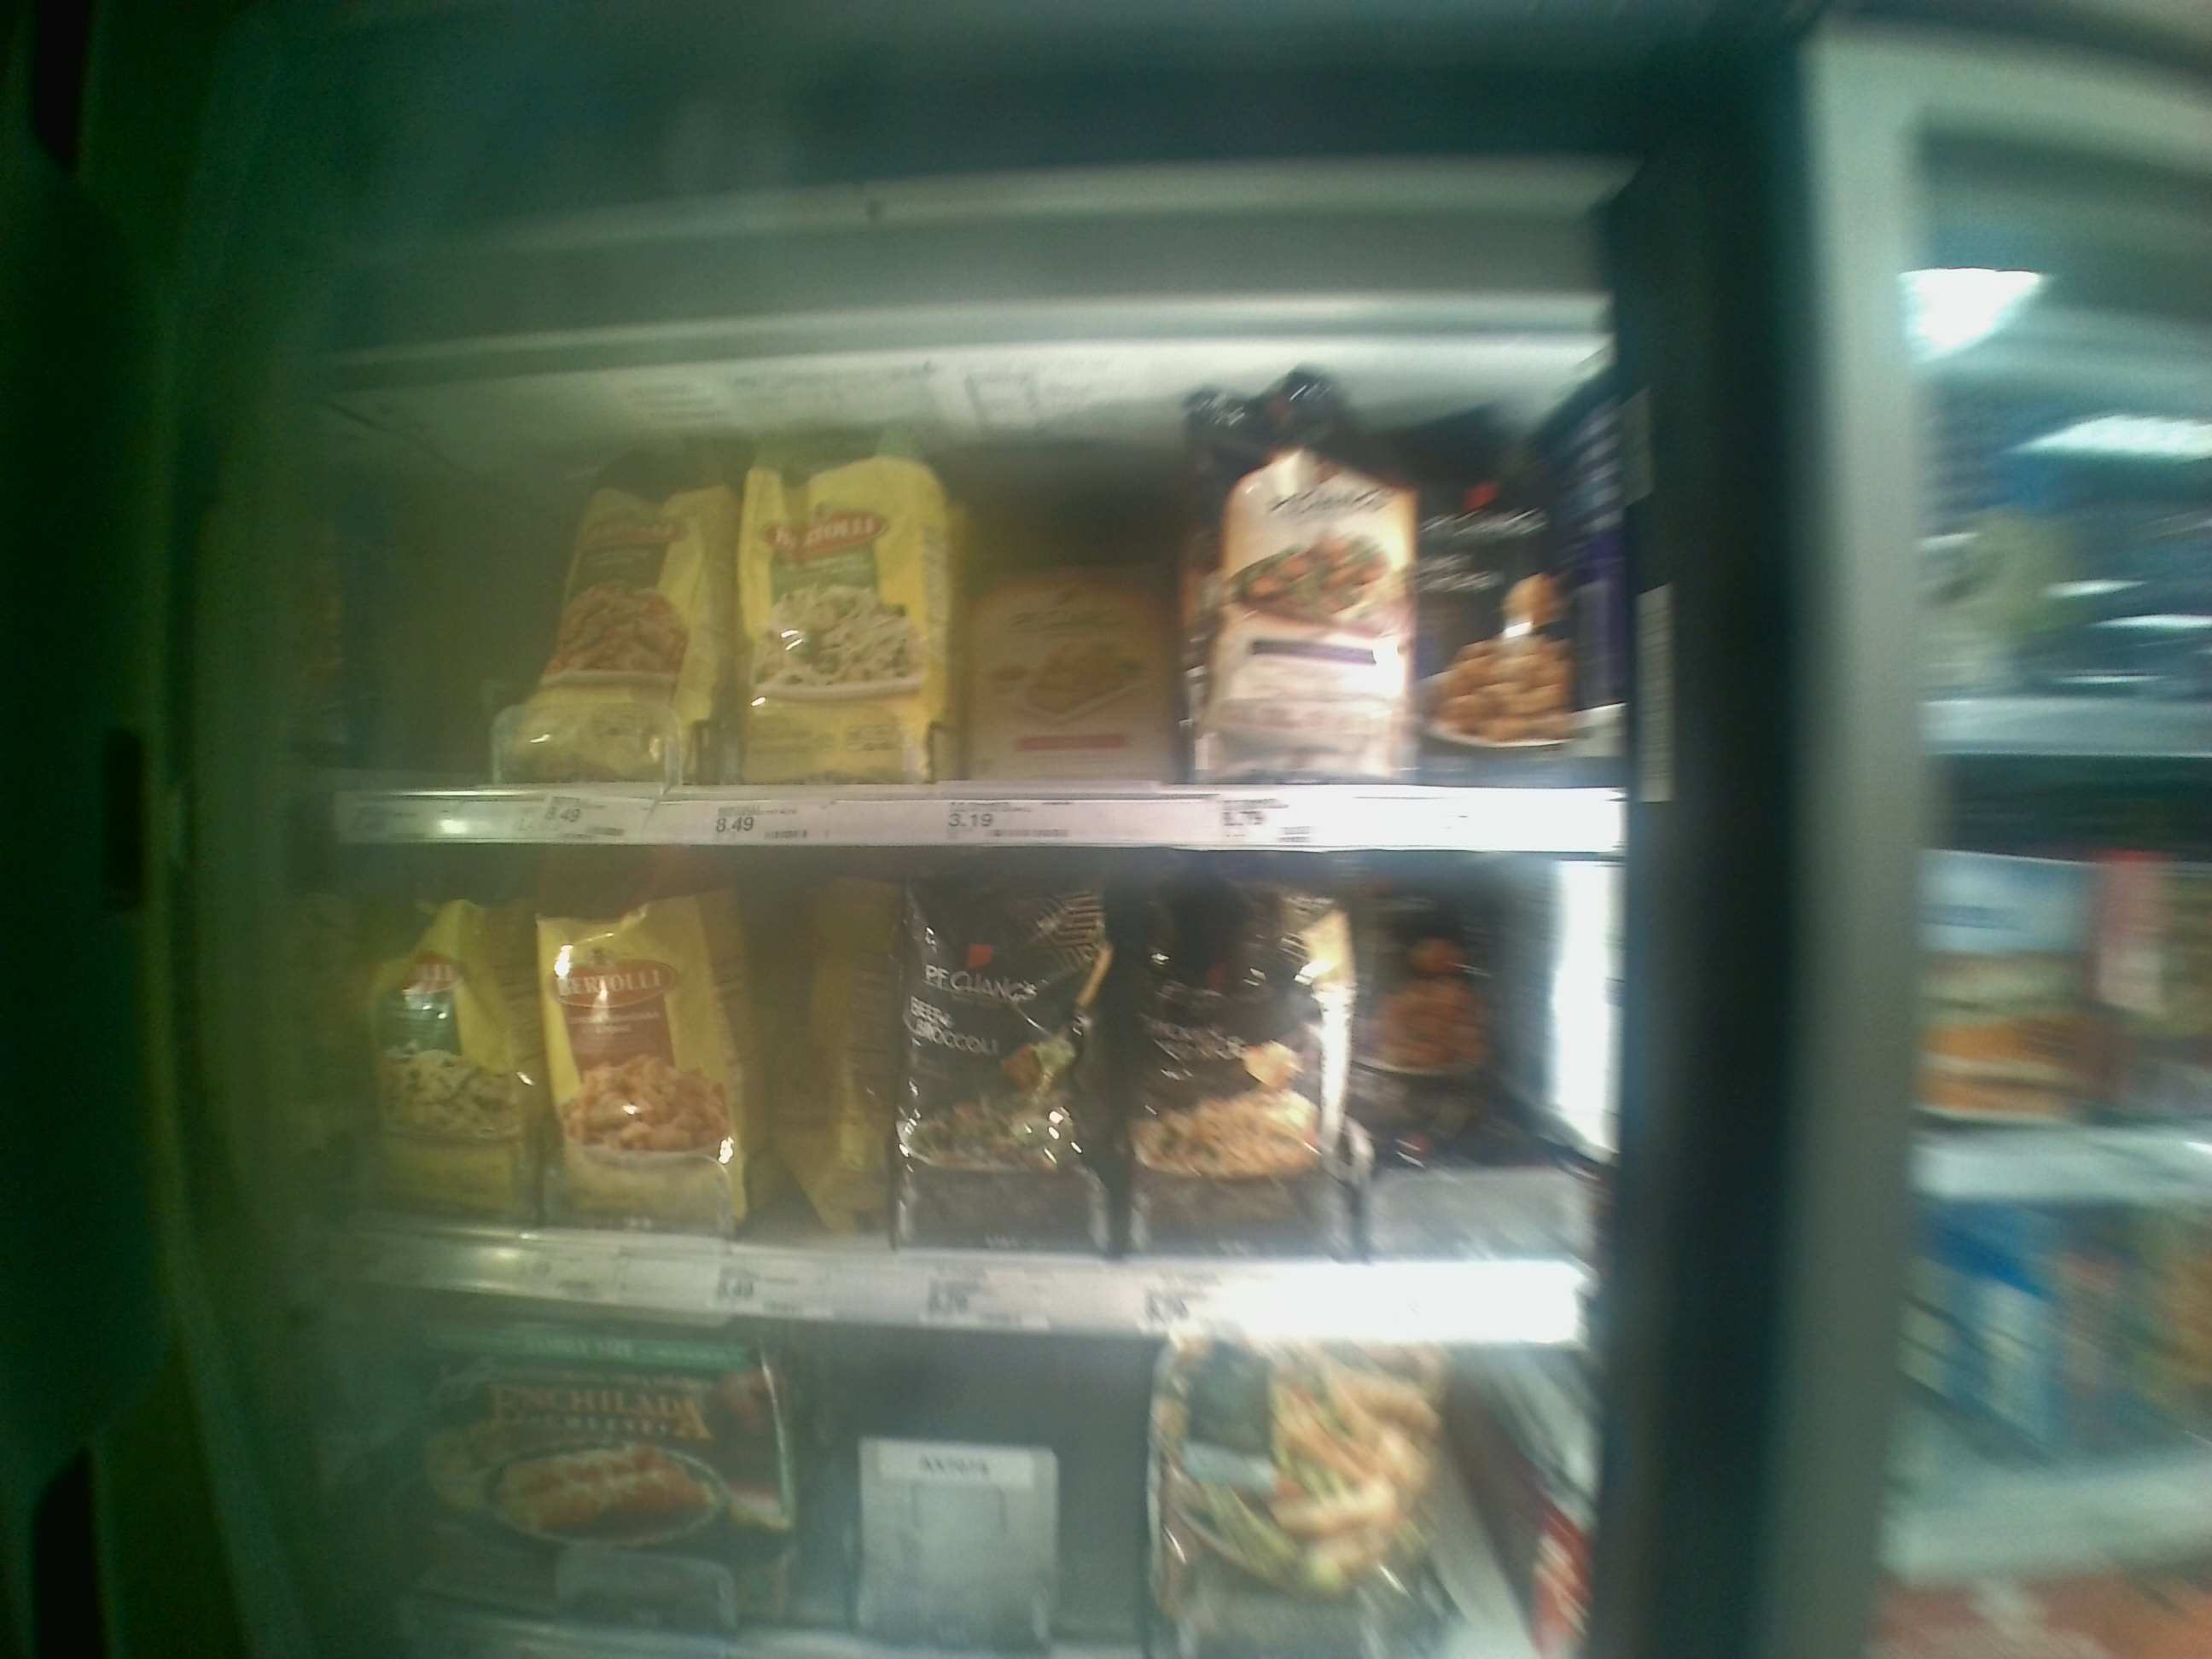frozen-food-shelf: (326, 871, 1585, 1358), (314, 418, 1609, 859)
